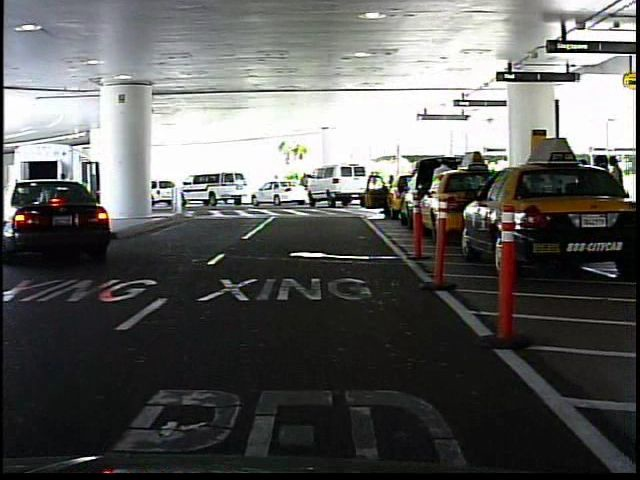person: (429, 156, 456, 227), (268, 172, 284, 202), (298, 171, 312, 202)
